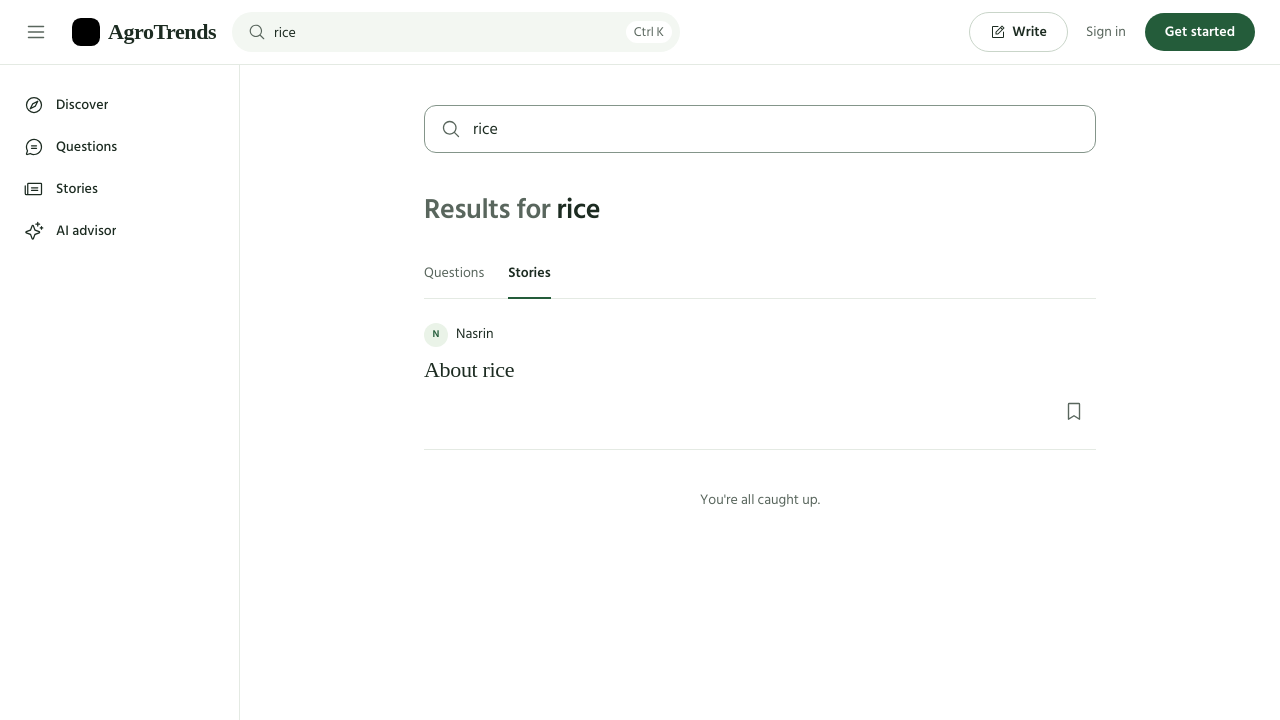
Test: searching again from the page updates the URL and results
Expected: the link "About rice" is shown, [424,357,514,382]
Replace the text in the search field named "Search questions and stories" with "jute aphids": [776, 129] box [473,117,1079,141]
Then press Enter
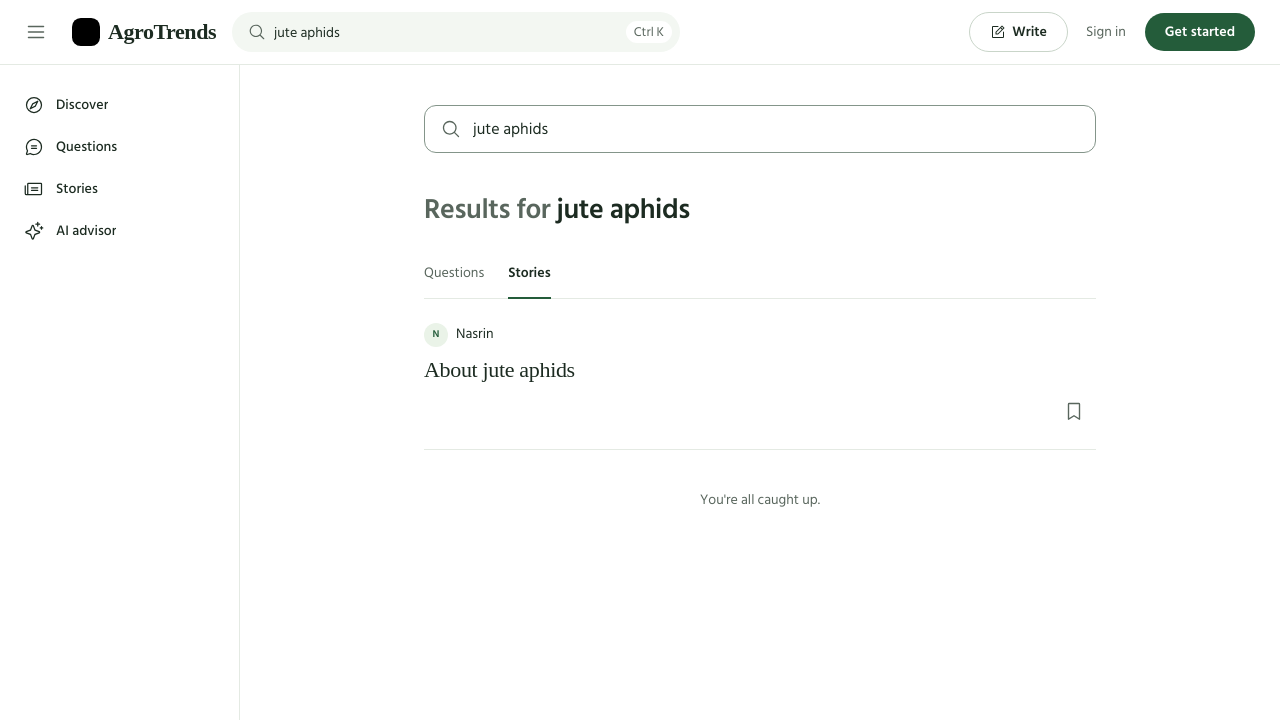
Expected: the link "About jute aphids" is shown, [424,357,575,382]
